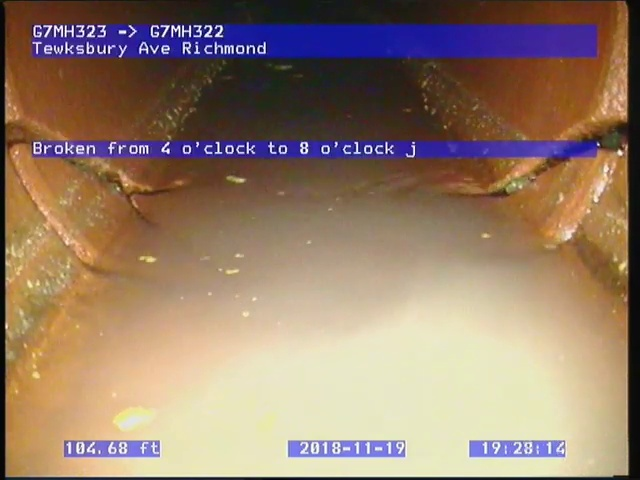crack: (4, 112, 175, 231), (445, 114, 626, 202)
